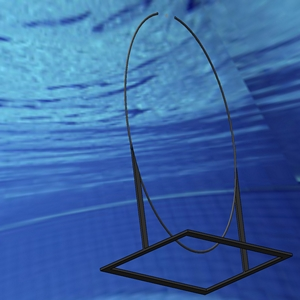circle: (97, 10, 293, 292)
